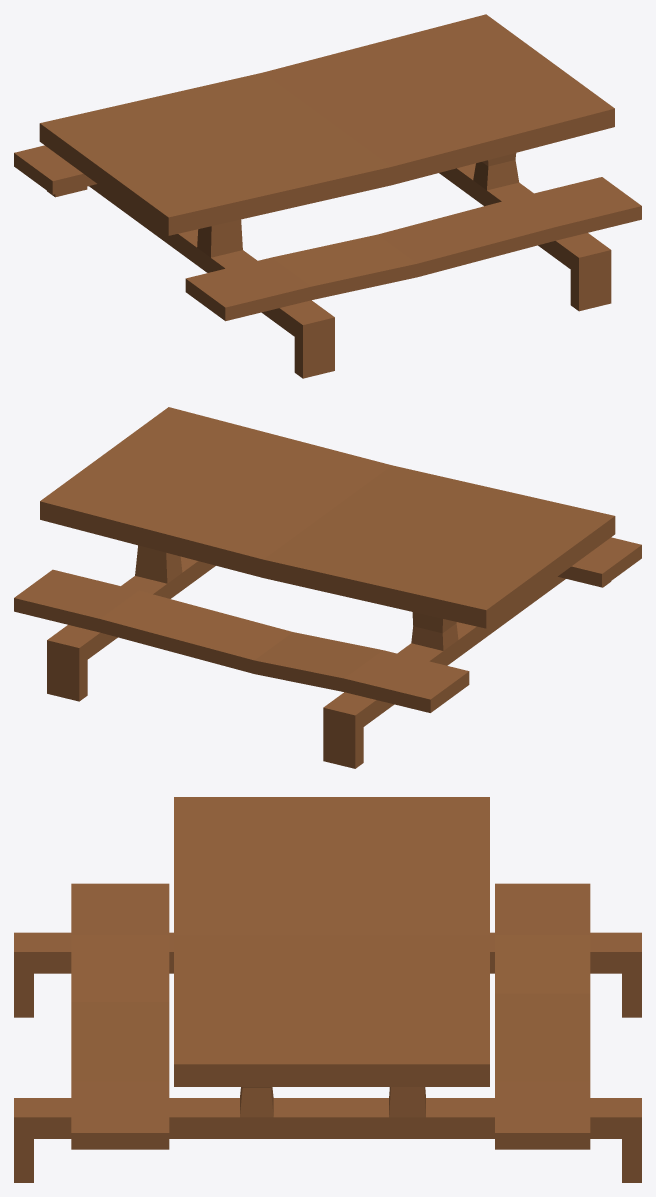
The model's file is Bank_02.fbx.
3 views of the same model, one above another, from view 1: azimuth 30°, elevation 25°; view 2: azimuth 150°, elevation 25°; view 3: azimuth 270°, elevation 25° (orthographic). The views are drawn at different scales.
Visible parts, largest first — view 1: Bank_02; view 2: Bank_02; view 3: Bank_02.
Boxes of the visible parts, bbox=[...] form: Bank_02: bbox=[14, 14, 641, 378]; Bank_02: bbox=[14, 407, 641, 768]; Bank_02: bbox=[14, 797, 641, 1182].
Size of the model in its own units: 33.41 by 9.32 by 33.17.
